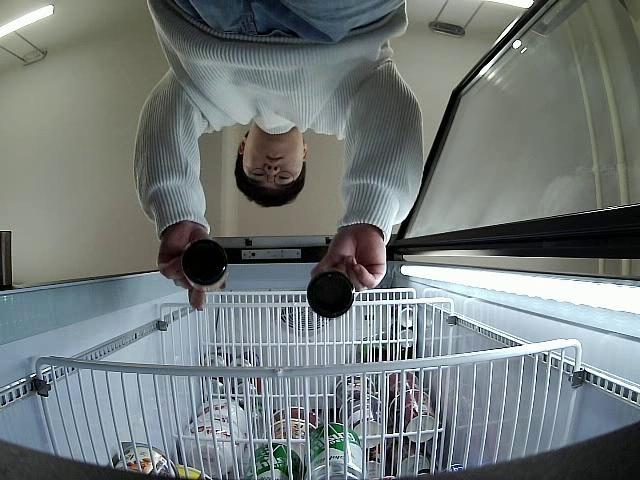17_vita500: (181, 237, 228, 292), (305, 271, 355, 318)
